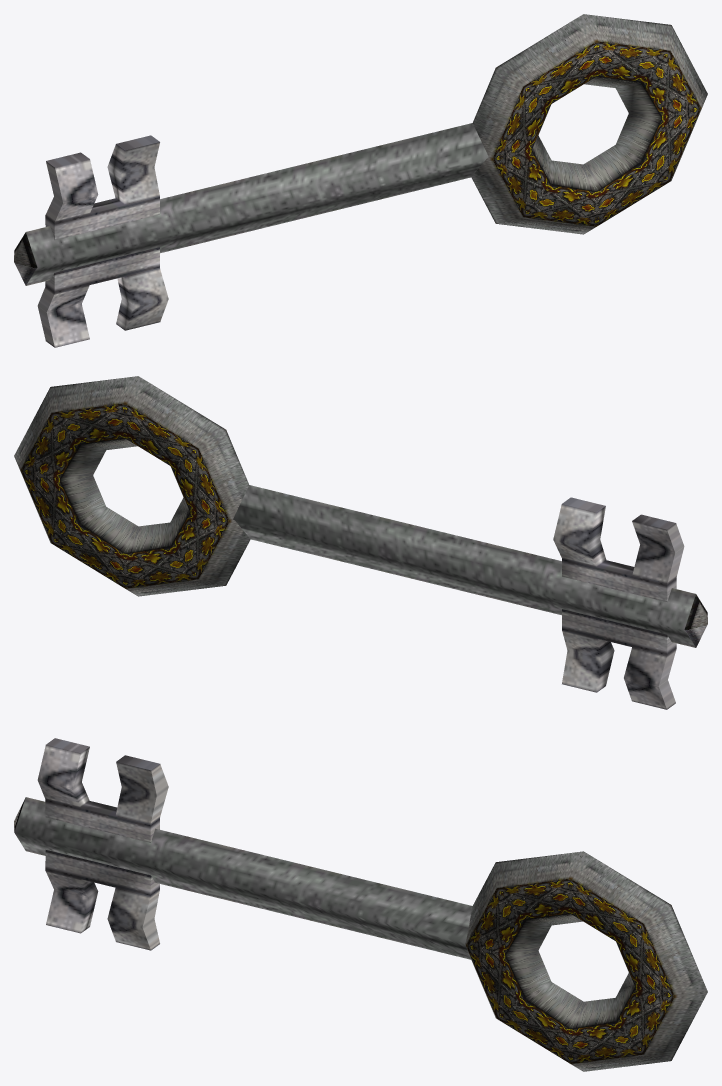
File: ItKe_Key_03.fbx
The picture shows the model from 3 angles, top to bottom: view 1: azimuth 30°, elevation 25°; view 2: azimuth 150°, elevation 25°; view 3: azimuth 330°, elevation 25°; orthographic projection.
Parts seen in each view (by area): view 1: Cylinder02; view 2: Cylinder02; view 3: Cylinder02.
Part boxes in pixels (bbox=[...]): Cylinder02: bbox=[14, 14, 707, 347]; Cylinder02: bbox=[14, 376, 707, 709]; Cylinder02: bbox=[14, 738, 707, 1071].
Size of the model in its own units: 24.24 by 7.36 by 1.59.
